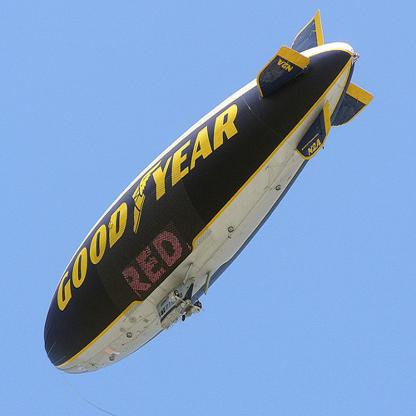Airship: (42, 8, 374, 389)
